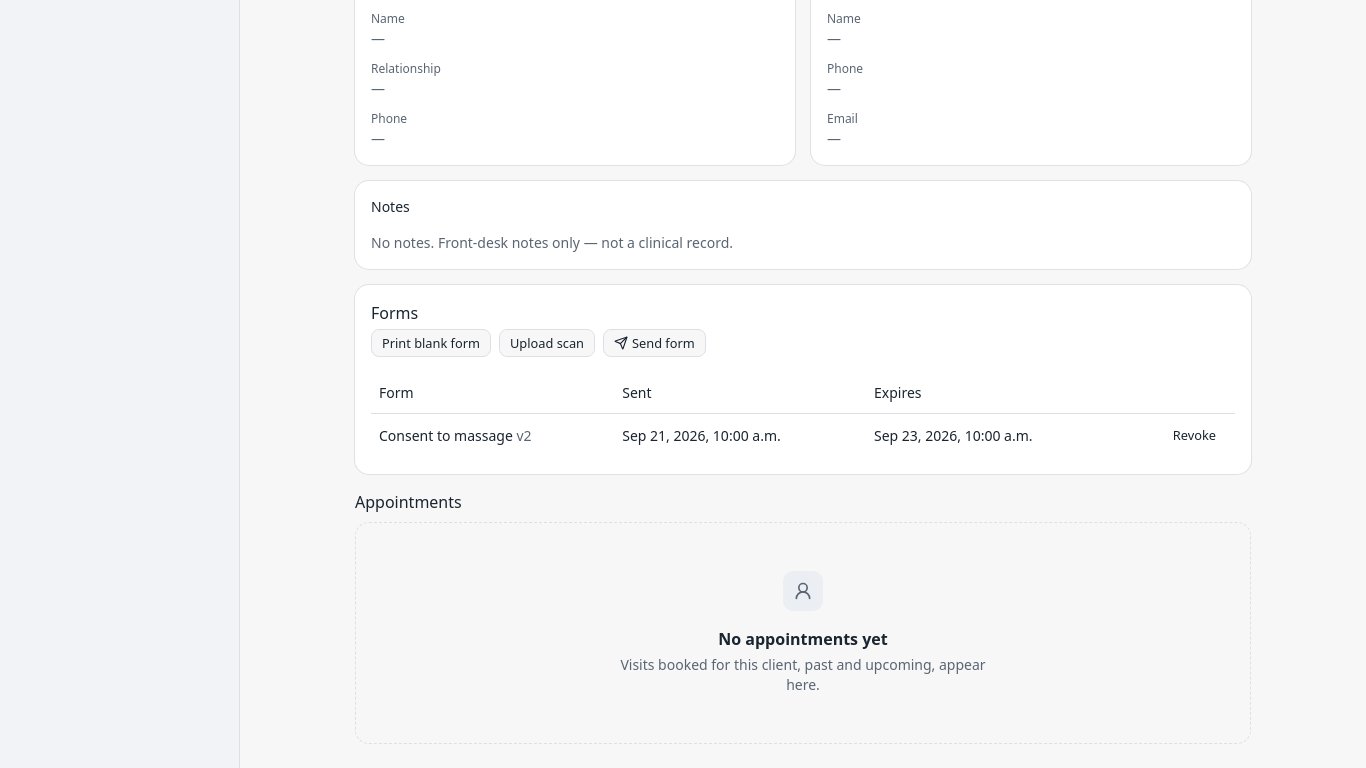
Test case: revoking an open link removes it from the list
(page scrolled)
Click the button with aria-label "Revoke Consent to massage" at [1194, 436], box [1162,422,1227,450]
(page scrolled)
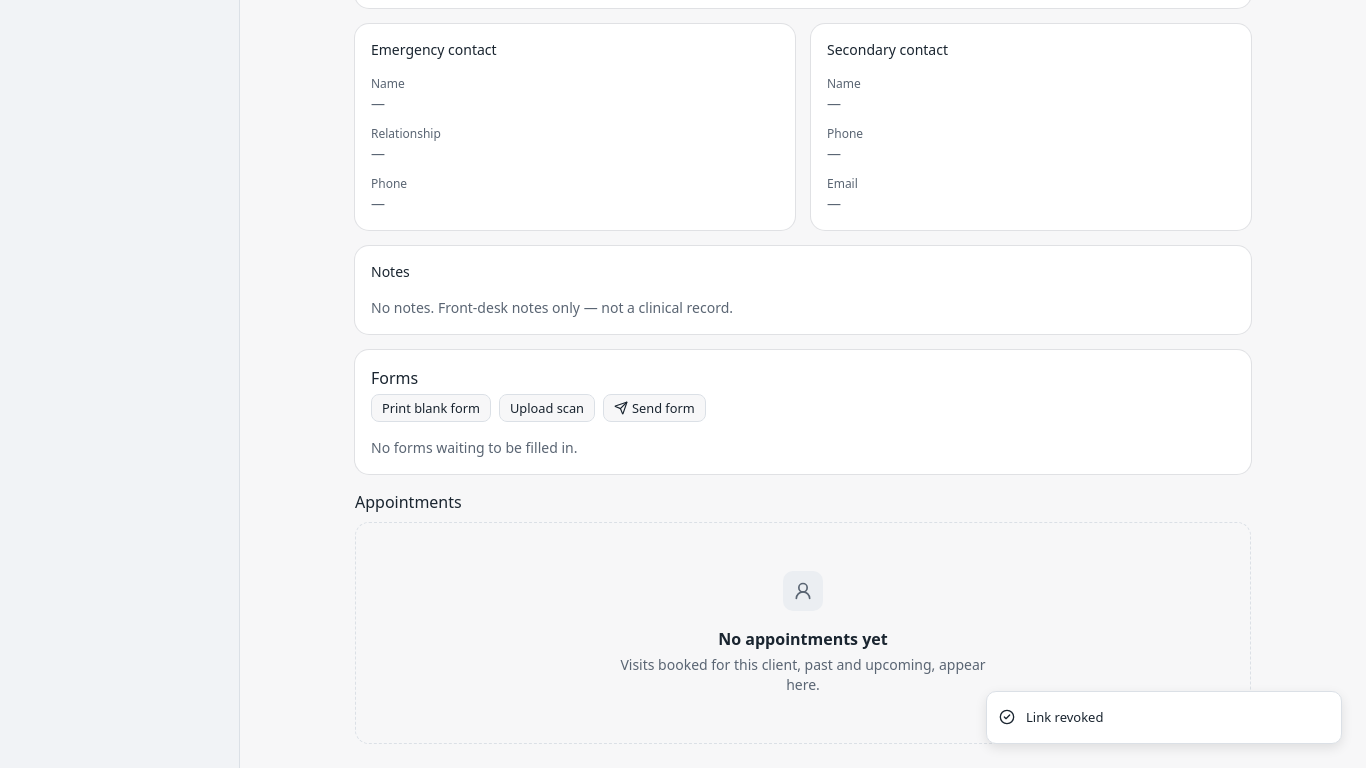
Expected: the text "No forms waiting to be filled in." is shown, [371,438,577,457]
